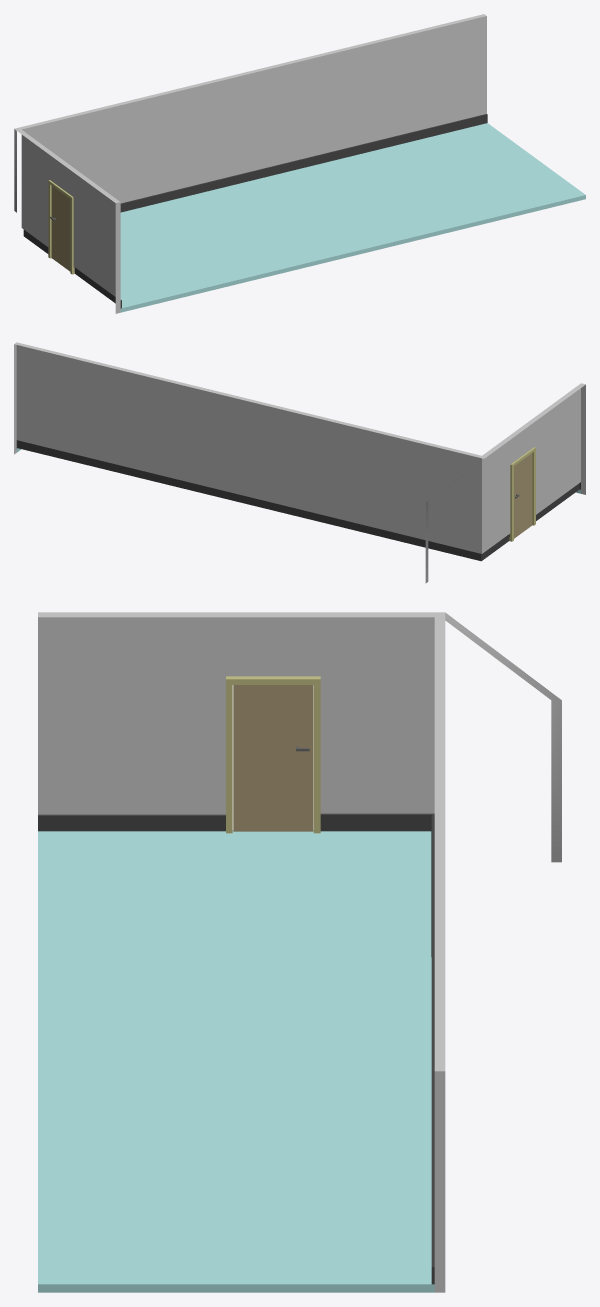
Rendered from hallway.fbx.
3 views of the same model, one above another, from view 1: azimuth 30°, elevation 25°; view 2: azimuth 150°, elevation 25°; view 3: azimuth 270°, elevation 25° (orthographic). The views are drawn at different scales.
Parts seen in each view (by area): view 1: room2, door, doorFrame; view 2: room2, door, doorFrame; view 3: room2, door, doorFrame.
Boxes of the visible parts, x1,y1,x2,y2 form: room2: (14, 14, 585, 313); door: (50, 186, 70, 271); doorFrame: (48, 180, 74, 274); room2: (14, 342, 585, 583); door: (514, 453, 532, 538); doorFrame: (509, 447, 535, 541); room2: (38, 612, 561, 1292); door: (233, 685, 313, 831); doorFrame: (226, 676, 320, 833).
Size of the model in its own units: 1600 by 360 by 772.
